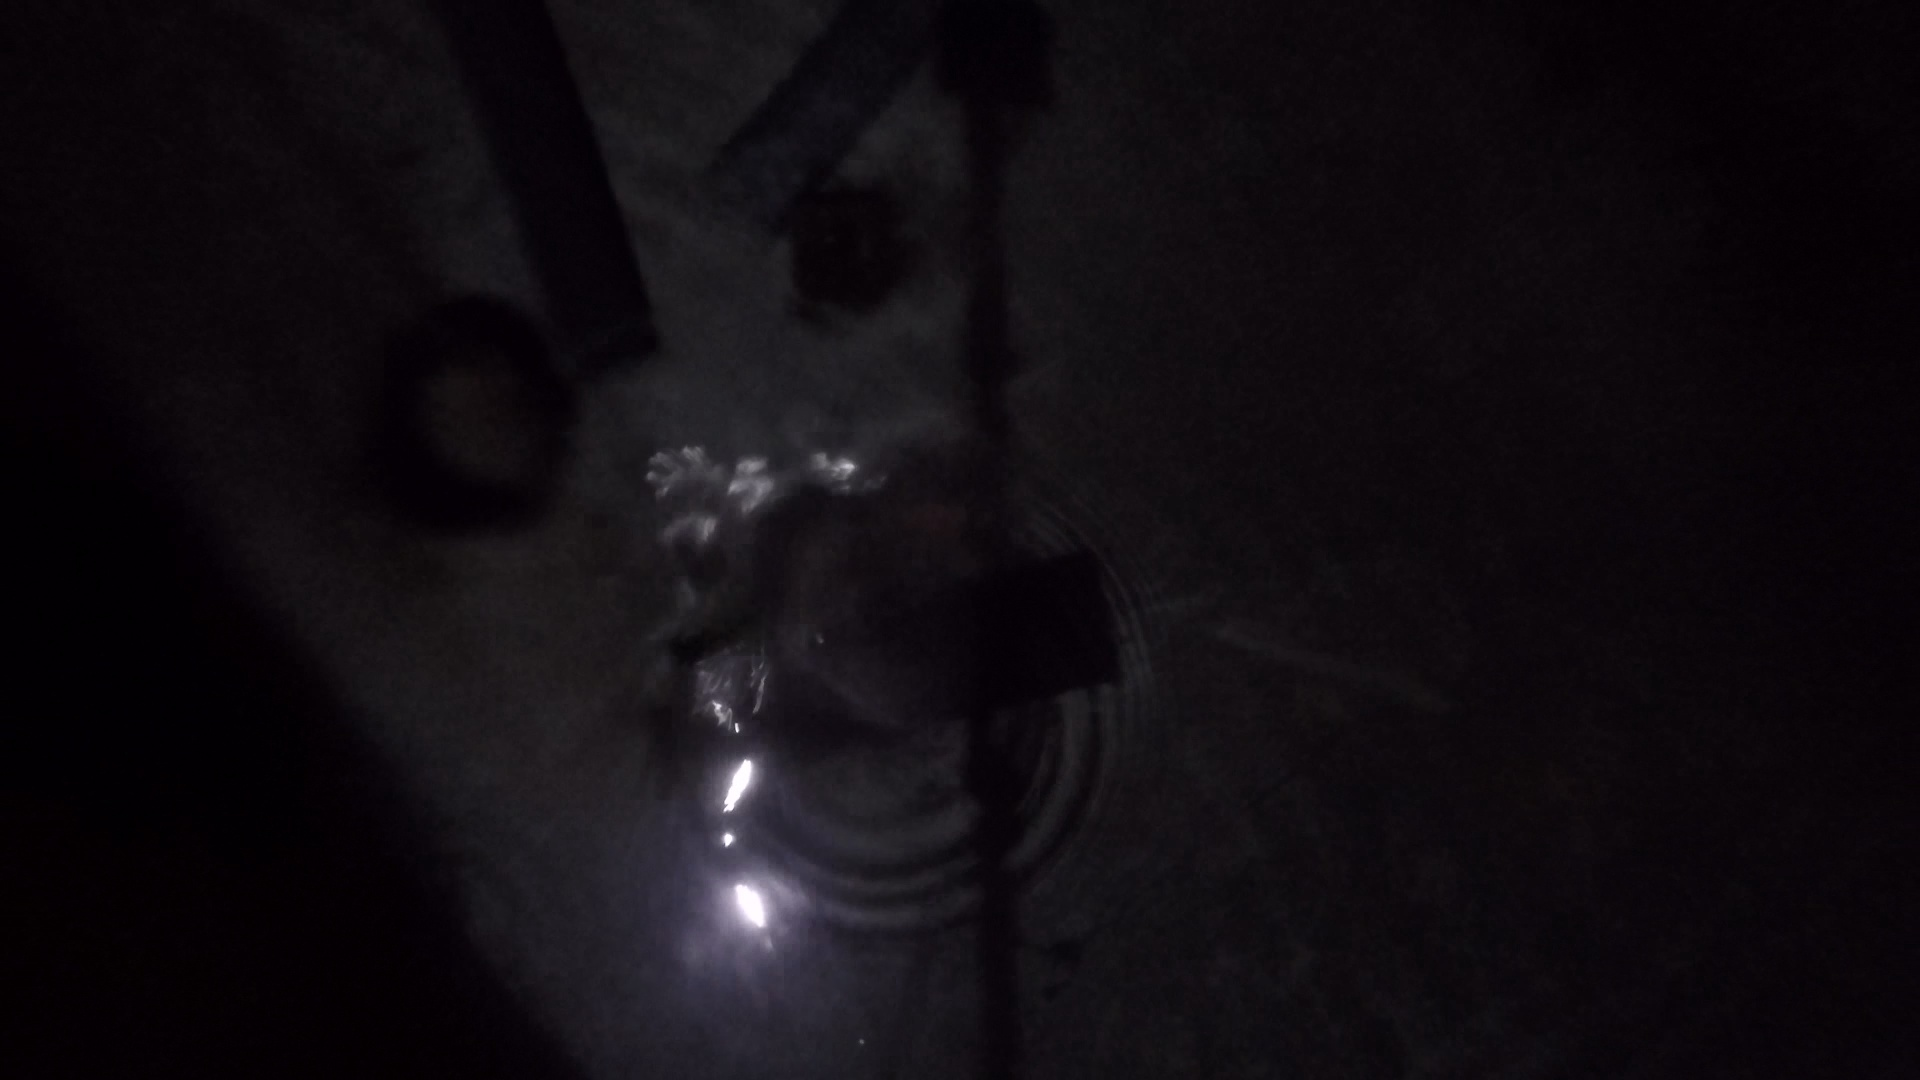led_block: (794, 191, 901, 311)
pipe: (673, 553, 1121, 798), (452, 1, 653, 357), (708, 1, 913, 239), (377, 293, 562, 535)
